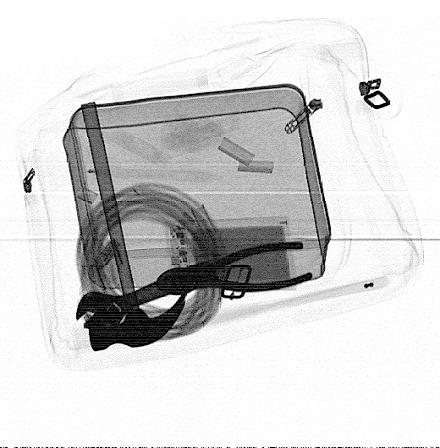Hammer: (80, 100, 186, 350)
Pliers: (155, 240, 313, 295)
Powerbank: (164, 216, 298, 293)
Wrench: (75, 258, 217, 329)
